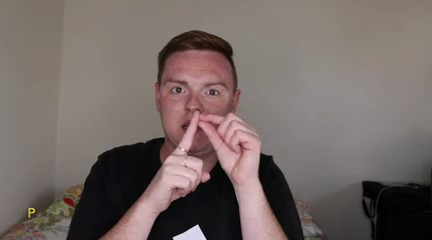P: (146, 109, 264, 205)
